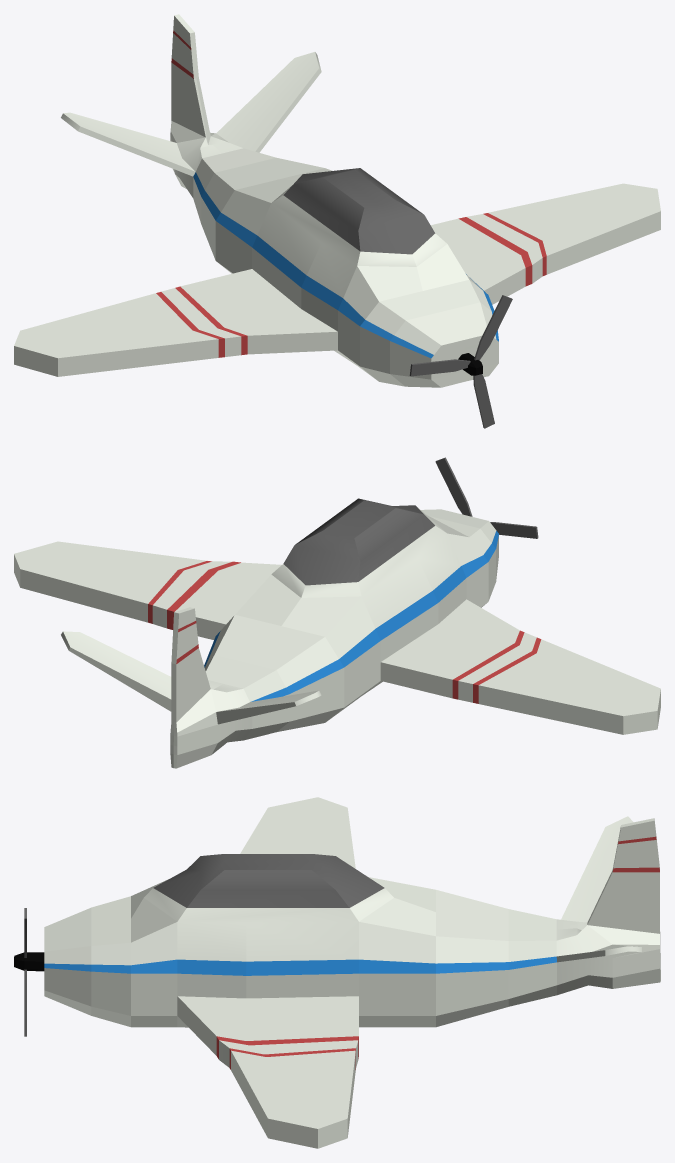
File: airplane_variation_model.fbx
3 views of the same model, one above another, from view 1: azimuth 30°, elevation 25°; view 2: azimuth 150°, elevation 25°; view 3: azimuth 270°, elevation 25° (orthographic). The views are drawn at different scales.
Visible parts, largest first — view 1: pCube6; view 2: pCube6; view 3: pCube6.
Part boxes in pixels (x1=…): pCube6: x1=14, y1=14, x2=660, y2=428; pCube6: x1=14, y1=457, x2=660, y2=768; pCube6: x1=14, y1=797, x2=660, y2=1148.
Bounding box in the file's own units: 8.41 × 2.47 × 6.93.
Materials: 1 (1 with a texture image).
